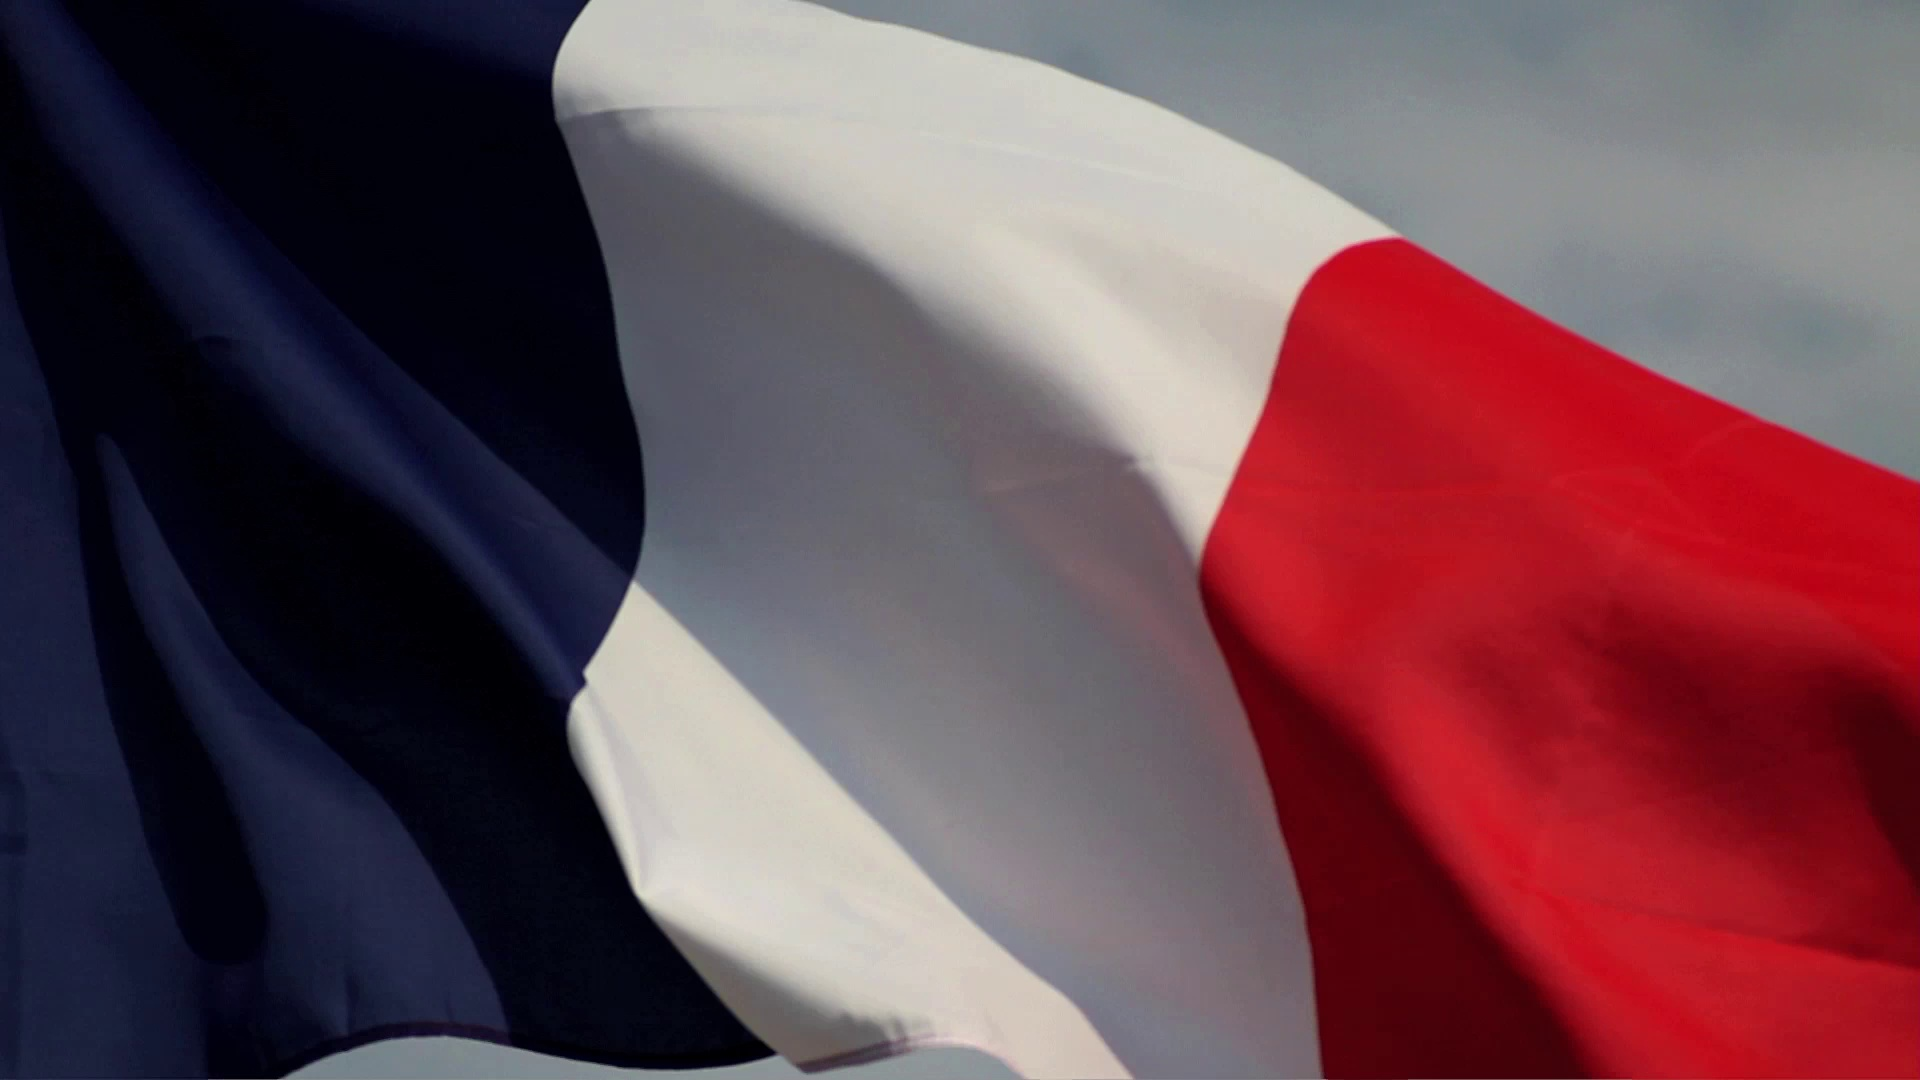French Flag: (1, 1, 1920, 1076)
